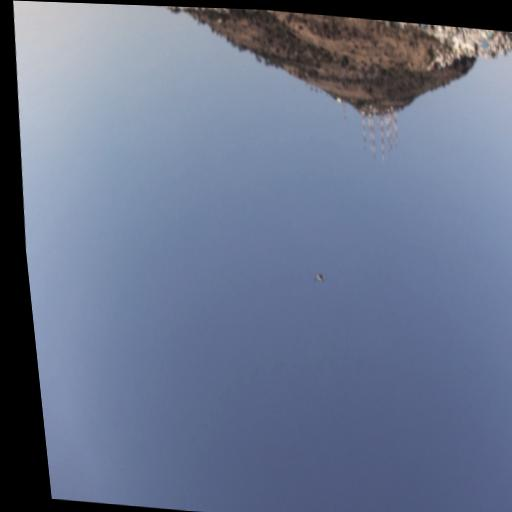drones: (313, 271, 328, 285)
